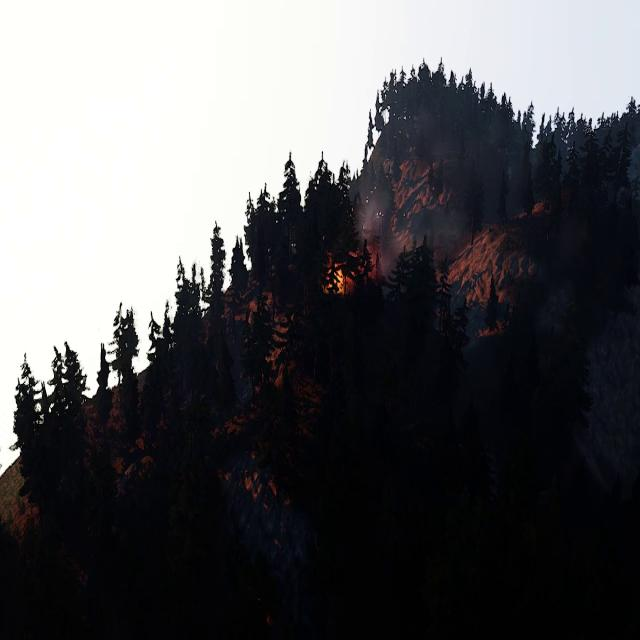fire: (329, 255, 347, 295)
smoke: (357, 127, 456, 275)
